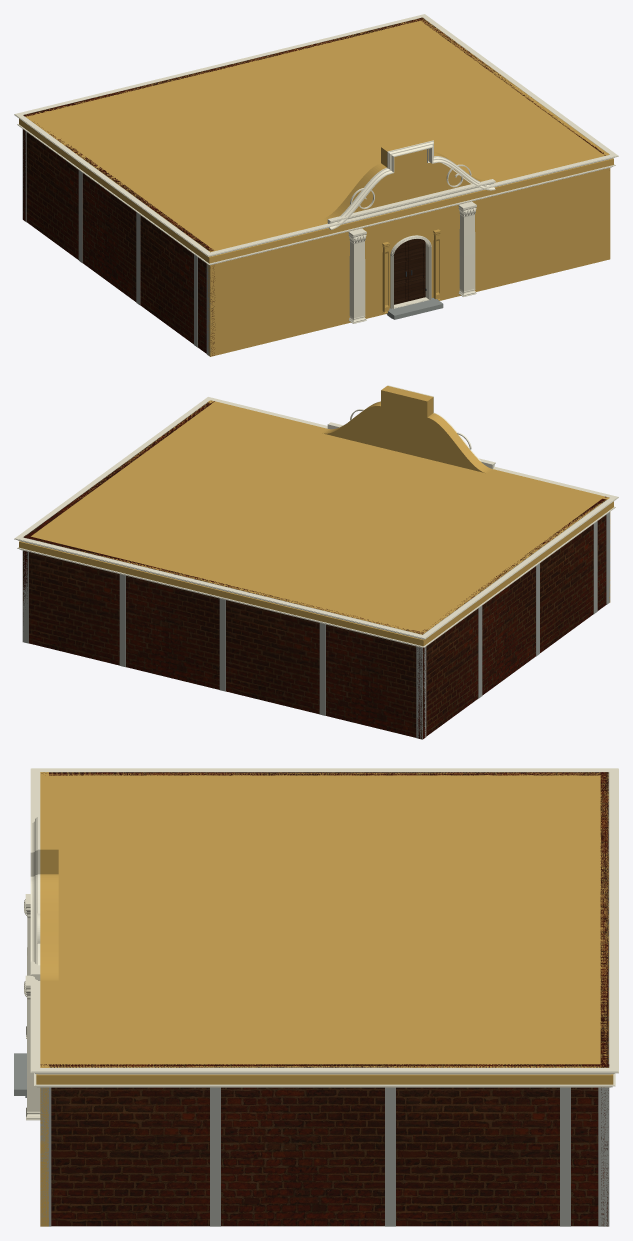
File: building.glb
3 renders of one model, top to bottom at view 1: azimuth 30°, elevation 25°; view 2: azimuth 150°, elevation 25°; view 3: azimuth 270°, elevation 25°, orthographic. The views are drawn at different scales.
Visible parts, largest first — view 1: roof/house:0/roof_slab#0001, house:0/edge0/z0/house:0/edge0/z0/wall_0_0, house:0/edge3/z0/house:0/edge3/z0/wall_0_0, entablature/entablamento/2/entablature_cornice#0001, entablature/entablamento/1/entablature_frieze#0001, crown/coronamiento/crown_body#0001, crown/coronamiento/crown_moulding#0001, entablature/entablamento/0/entablature_architrave#0001, house:0/edge2/z0/house:0/edge2/z0/wall_0_0, vertical_member/pilastra_1/member_shaft#0001, vertical_member/pilastra_0/member_shaft#0001, crown/coronamiento/crown_base_cornice#0001 (+4 smaller); view 2: roof/house:0/roof_slab#0001, house:0/edge2/z0/house:0/edge2/z0/wall_0_0, house:0/edge3/z0/house:0/edge3/z0/wall_0_0, crown/coronamiento/crown_body#0001, entablature/entablamento/2/entablature_cornice#0001, entablature/entablamento/1/entablature_frieze#0001, entablature/entablamento/0/entablature_architrave#0001, house:0/edge1/z0/house:0/edge1/z0/wall_0_0, house:0/edge0/z0/house:0/edge0/z0/wall_0_0, house:0/edge2/z0/house:0/edge2/z0/column_2_0, house:0/edge2/z0/house:0/edge2/z0/column_3_0, house:0/edge2/z0/house:0/edge2/z0/column_4_0 (+2 smaller); view 3: roof/house:0/roof_slab#0001, house:0/edge1/z0/house:0/edge1/z0/wall_0_0, entablature/entablamento/2/entablature_cornice#0001, entablature/entablamento/1/entablature_frieze#0001, house:0/edge2/z0/house:0/edge2/z0/wall_0_0, crown/coronamiento/crown_body#0001, house:0/edge0/z0/house:0/edge0/z0/wall_0_0, entablature/entablamento/0/entablature_architrave#0001, house:0/edge3/z0/house:0/edge3/z0/wall_0_0, house:0/edge1/z0/house:0/edge1/z0/column_1_0, house:0/edge1/z0/house:0/edge1/z0/column_2_0, house:0/edge1/z0/house:0/edge1/z0/column_3_0 (+4 smaller).
Part boxes in pixels (x1,y1,x2,y2): roof/house:0/roof_slab#0001: (25, 17, 608, 251); house:0/edge0/z0/house:0/edge0/z0/wall_0_0: (207, 152, 610, 356); house:0/edge3/z0/house:0/edge3/z0/wall_0_0: (26, 122, 214, 355); entablature/entablamento/2/entablature_cornice#0001: (14, 14, 618, 256); entablature/entablamento/1/entablature_frieze#0001: (19, 119, 613, 263); crown/coronamiento/crown_body#0001: (322, 136, 487, 222); crown/coronamiento/crown_moulding#0001: (329, 140, 495, 229); entablature/entablamento/0/entablature_architrave#0001: (17, 124, 615, 265); house:0/edge2/z0/house:0/edge2/z0/wall_0_0: (23, 17, 423, 221); vertical_member/pilastra_1/member_shaft#0001: (459, 215, 475, 291); vertical_member/pilastra_0/member_shaft#0001: (349, 241, 365, 317); crown/coronamiento/crown_base_cornice#0001: (327, 179, 495, 223); roof/house:0/roof_slab#0001: (31, 401, 605, 634); house:0/edge2/z0/house:0/edge2/z0/wall_0_0: (24, 535, 425, 738); house:0/edge3/z0/house:0/edge3/z0/wall_0_0: (417, 496, 606, 739); crown/coronamiento/crown_body#0001: (322, 386, 491, 473); entablature/entablamento/2/entablature_cornice#0001: (14, 397, 618, 639); entablature/entablamento/1/entablature_frieze#0001: (19, 501, 613, 646); entablature/entablamento/0/entablature_architrave#0001: (17, 506, 615, 647); house:0/edge1/z0/house:0/edge1/z0/wall_0_0: (23, 401, 214, 621); house:0/edge0/z0/house:0/edge0/z0/wall_0_0: (208, 400, 610, 602); house:0/edge2/z0/house:0/edge2/z0/column_2_0: (119, 574, 125, 667); house:0/edge2/z0/house:0/edge2/z0/column_3_0: (219, 598, 225, 691); house:0/edge2/z0/house:0/edge2/z0/column_4_0: (319, 623, 325, 715); roof/house:0/roof_slab#0001: (40, 772, 609, 1067); house:0/edge1/z0/house:0/edge1/z0/wall_0_0: (40, 1064, 609, 1226); entablature/entablamento/2/entablature_cornice#0001: (30, 768, 618, 1074); entablature/entablamento/1/entablature_frieze#0001: (36, 1074, 613, 1084); house:0/edge2/z0/house:0/edge2/z0/wall_0_0: (600, 772, 608, 1226); crown/coronamiento/crown_body#0001: (42, 815, 58, 980); house:0/edge0/z0/house:0/edge0/z0/wall_0_0: (40, 772, 48, 1226); entablature/entablamento/0/entablature_architrave#0001: (34, 1073, 615, 1087); house:0/edge3/z0/house:0/edge3/z0/wall_0_0: (41, 772, 608, 775); house:0/edge1/z0/house:0/edge1/z0/column_1_0: (598, 1087, 609, 1226); house:0/edge1/z0/house:0/edge1/z0/column_2_0: (210, 1087, 220, 1226); house:0/edge1/z0/house:0/edge1/z0/column_3_0: (385, 1087, 395, 1226).
Size of the model in its own units: 16.44 by 6.26 by 13.82.
Materials: 8 (2 with a texture image).
